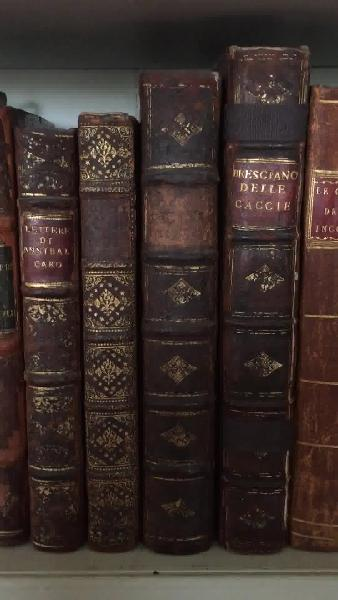Aa6-29: (7, 126, 97, 561)
Aa6-30: (65, 107, 141, 562)
Aa6-31: (131, 60, 230, 564)
Aa6-32: (217, 44, 296, 553)
